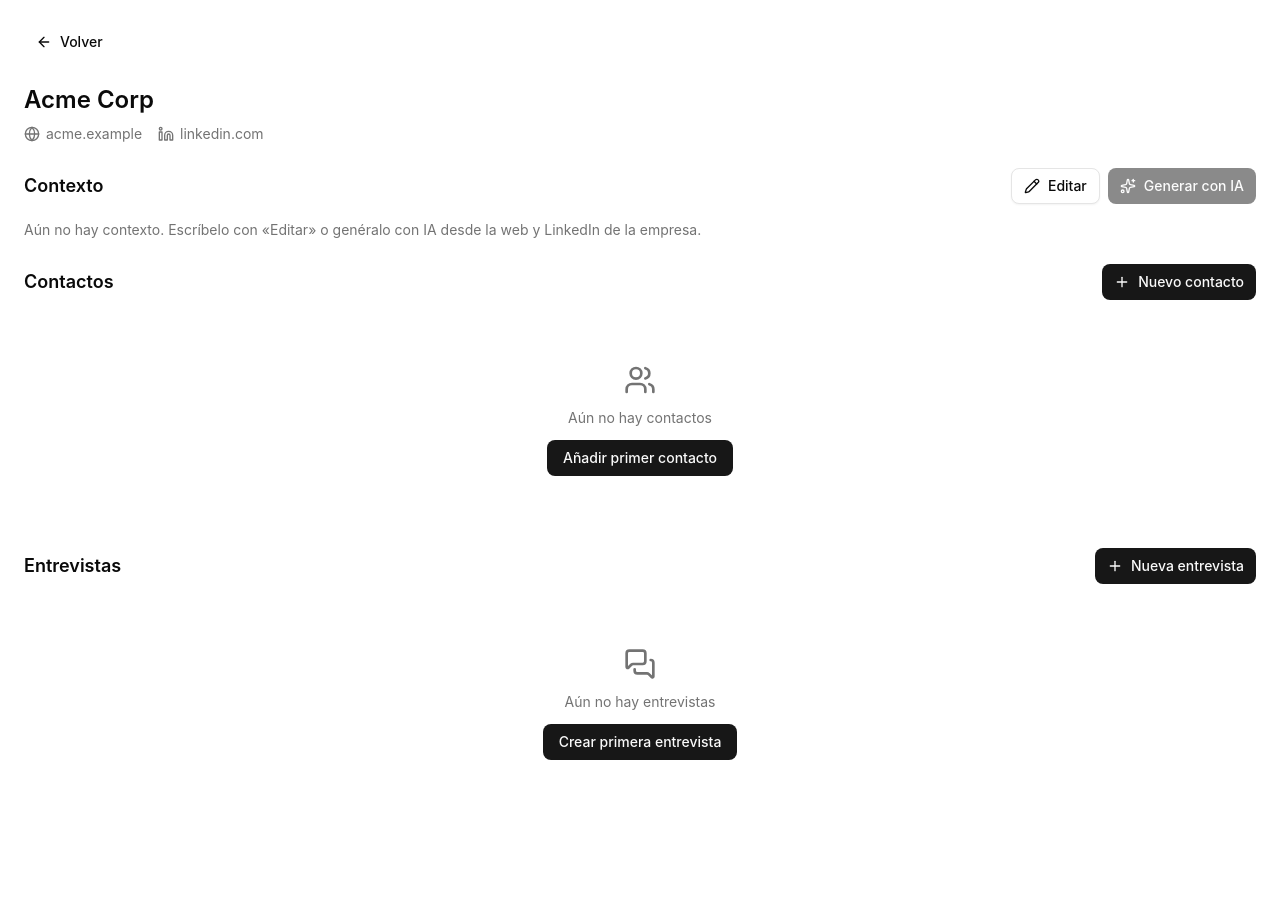
it: CompanyDetailPage › creating a contact › opens the "Nuevo contacto" dialog with focus on Nombre and the optional fields
The width and height of the screenshot is (1280, 900).
Click the button "Nuevo contacto".
click(1179, 282)  # box [1102,264,1256,300]
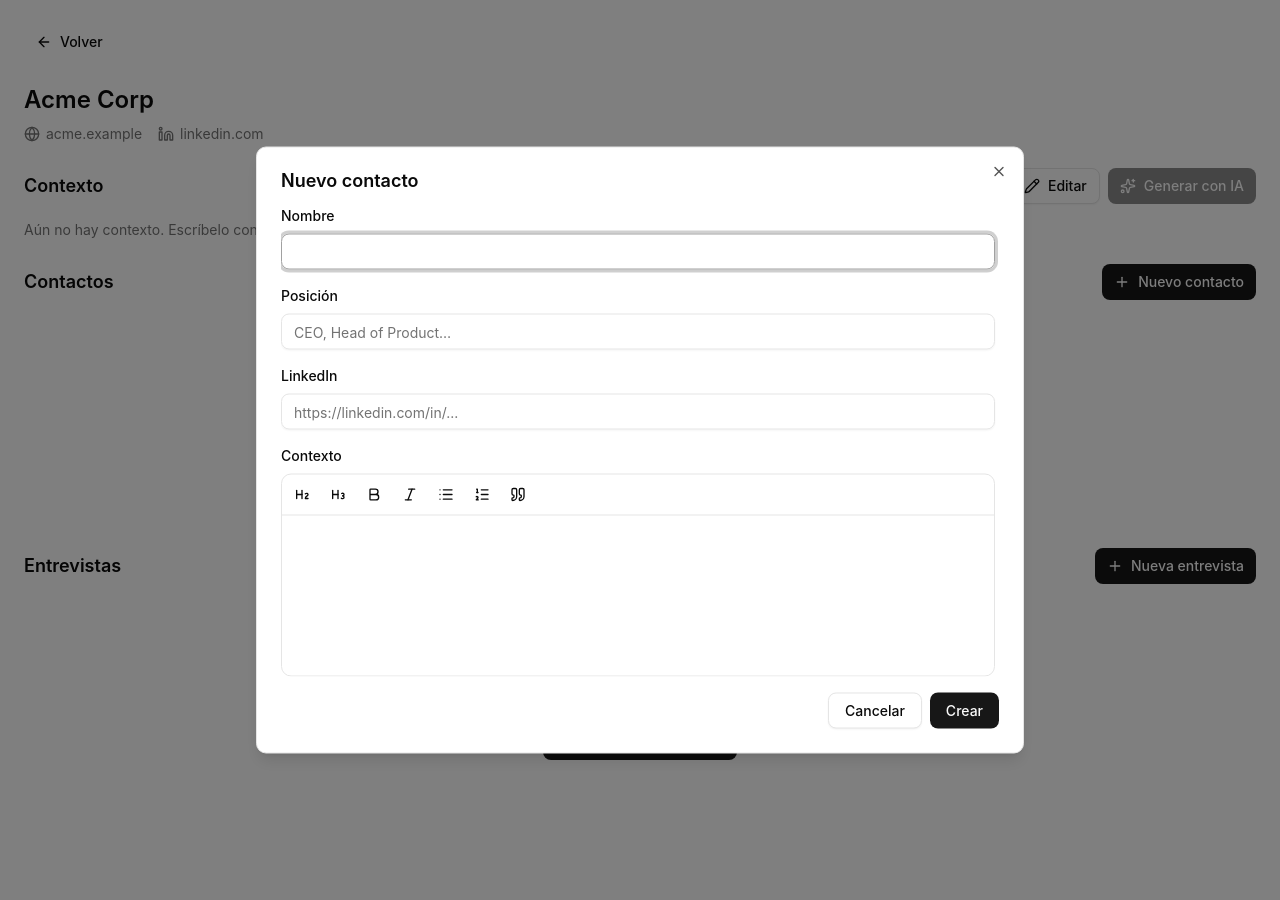
Expected: the dialog is shown, [256,146,1024,754]
Expected: the heading "Nuevo contacto" is shown, [281,170,419,190]
